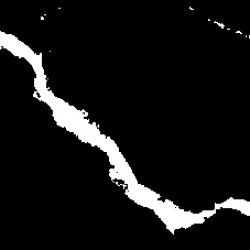crack: (4, 33, 249, 233), (206, 19, 246, 35), (42, 11, 49, 22), (187, 6, 195, 12)
